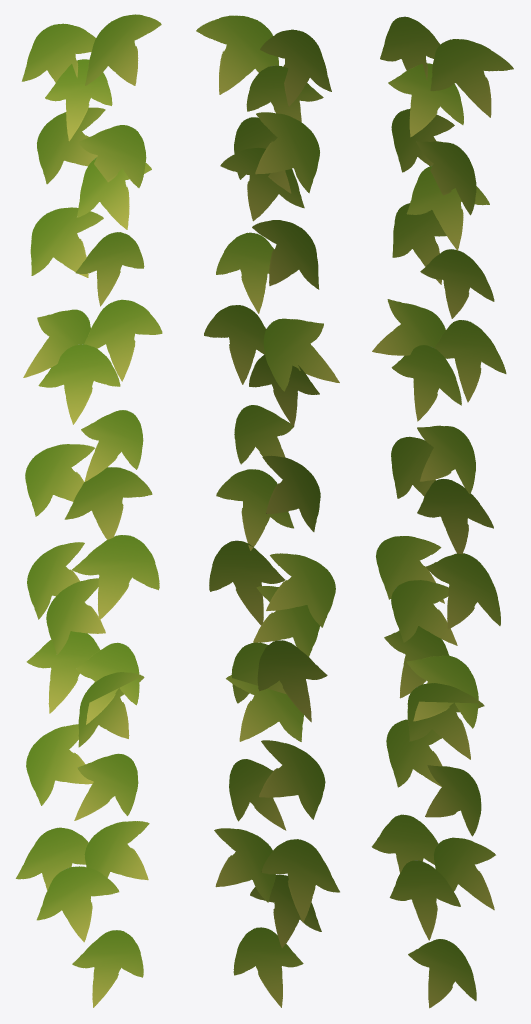
The model's file is ivy_2.fbx.
3 views of the same model, side by side, from view 1: azimuth 30°, elevation 25°; view 2: azimuth 150°, elevation 25°; view 3: azimuth 330°, elevation 25° (orthographic).
Parts seen in each view (by area): view 1: Plane.161; view 2: Plane.161; view 3: Plane.161.
Part boxes in pixels (x1,y1,x2,y2): Plane.161: (15, 14, 162, 1007); Plane.161: (196, 15, 339, 1007); Plane.161: (371, 16, 513, 1008).
Bounding box in the file's own units: 69.44 × 441 × 15.83.
